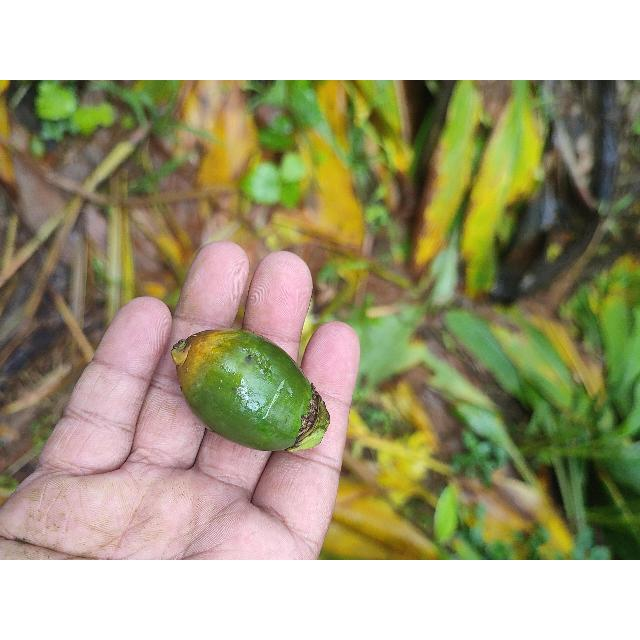good: (169, 329, 331, 453)
